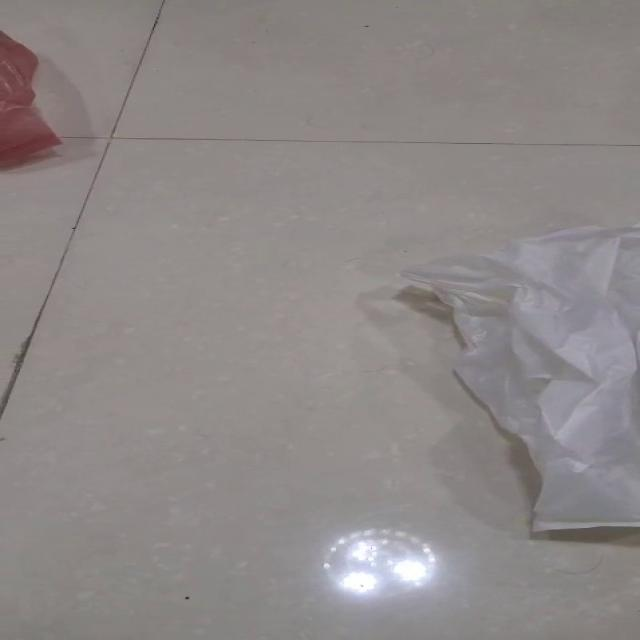plastic: (396, 223, 639, 532)
